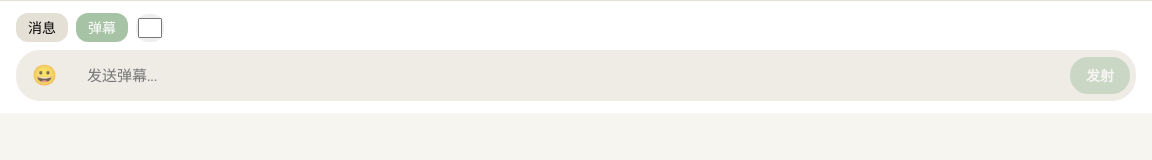
Test case: MessageInput › 输入测试 › 输入文字后发送按钮应该启用
The image size is (1152, 160).
In the field with class "input-field": x=568, y=76 top-left (75, 58), bottom-right (1062, 94), type "测试消息"
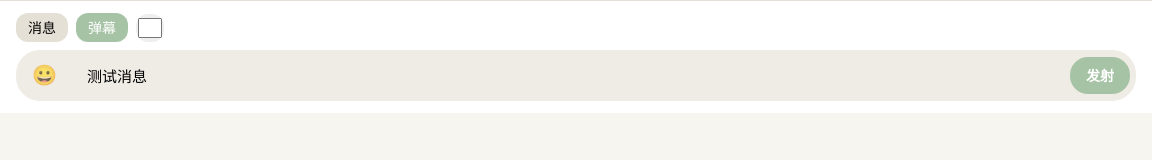
Check: the button with class "btn-send" is enabled, box top-left (1070, 57), bottom-right (1130, 94)
